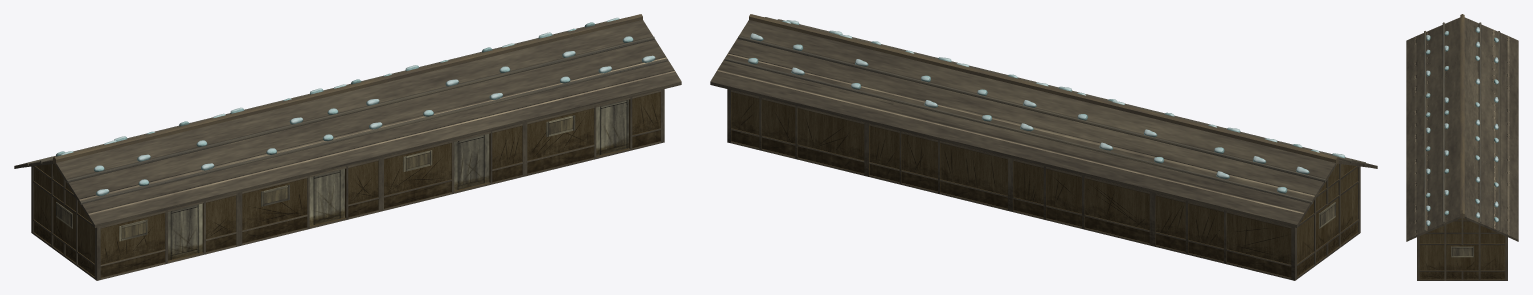
Rendered from BgMD_Akimoto_LOD_House_2_1.fbx.
The picture shows the model from 3 angles, left to right: view 1: azimuth 30°, elevation 25°; view 2: azimuth 150°, elevation 25°; view 3: azimuth 270°, elevation 25°; orthographic projection. The views are drawn at different scales.
Visible parts, largest first — view 1: BgMD_Akimoto_House_2_1_LOD_01; view 2: BgMD_Akimoto_House_2_1_LOD_01; view 3: BgMD_Akimoto_House_2_1_LOD_01.
Part boxes in pixels (x1,y1,x2,y2): BgMD_Akimoto_House_2_1_LOD_01: (14,14,681,280); BgMD_Akimoto_House_2_1_LOD_01: (710,14,1377,280); BgMD_Akimoto_House_2_1_LOD_01: (1406,14,1518,280).
Size of the model in its own units: 2072 by 344 by 492.
